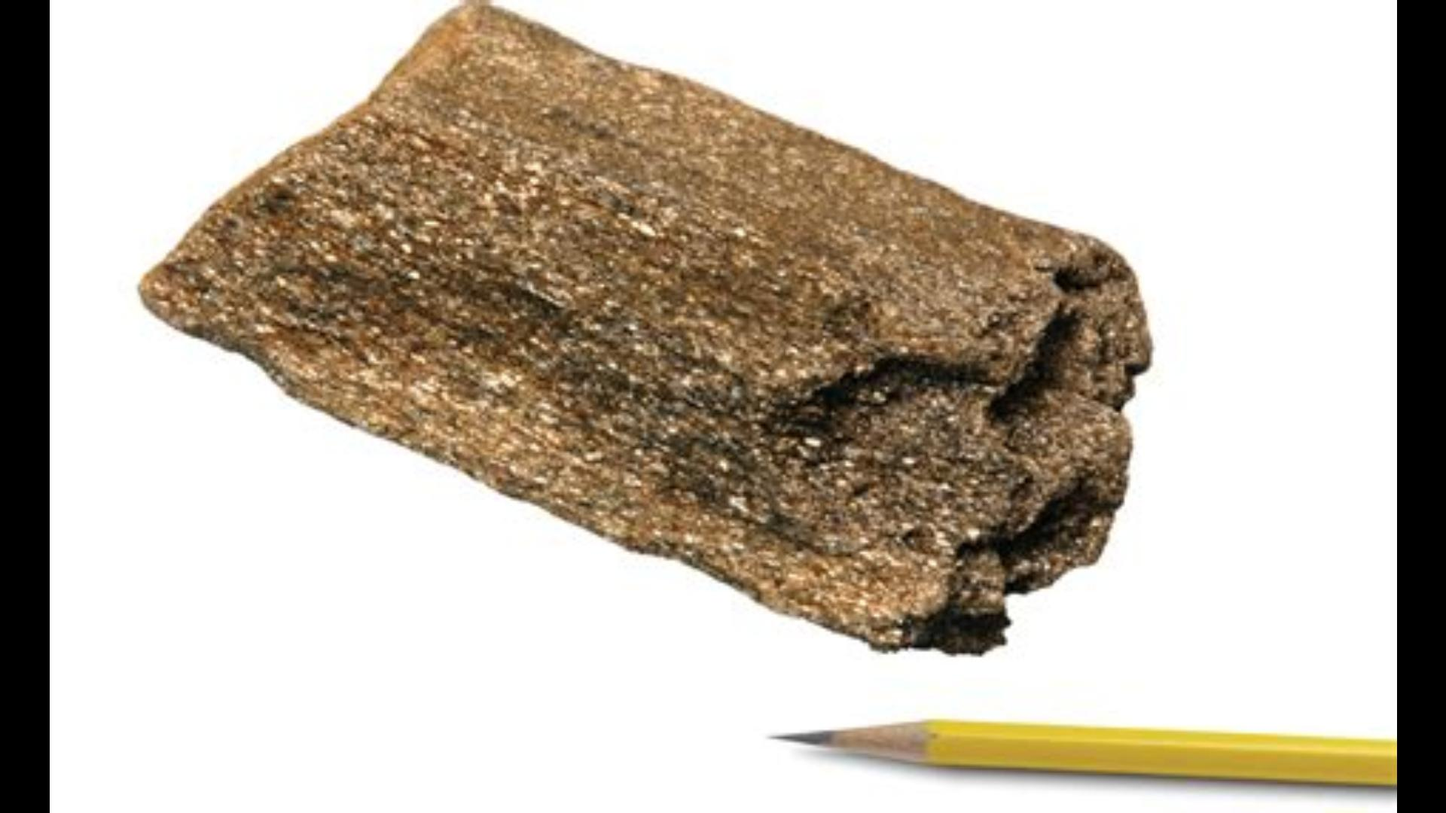rock: (140, 6, 1150, 651)
